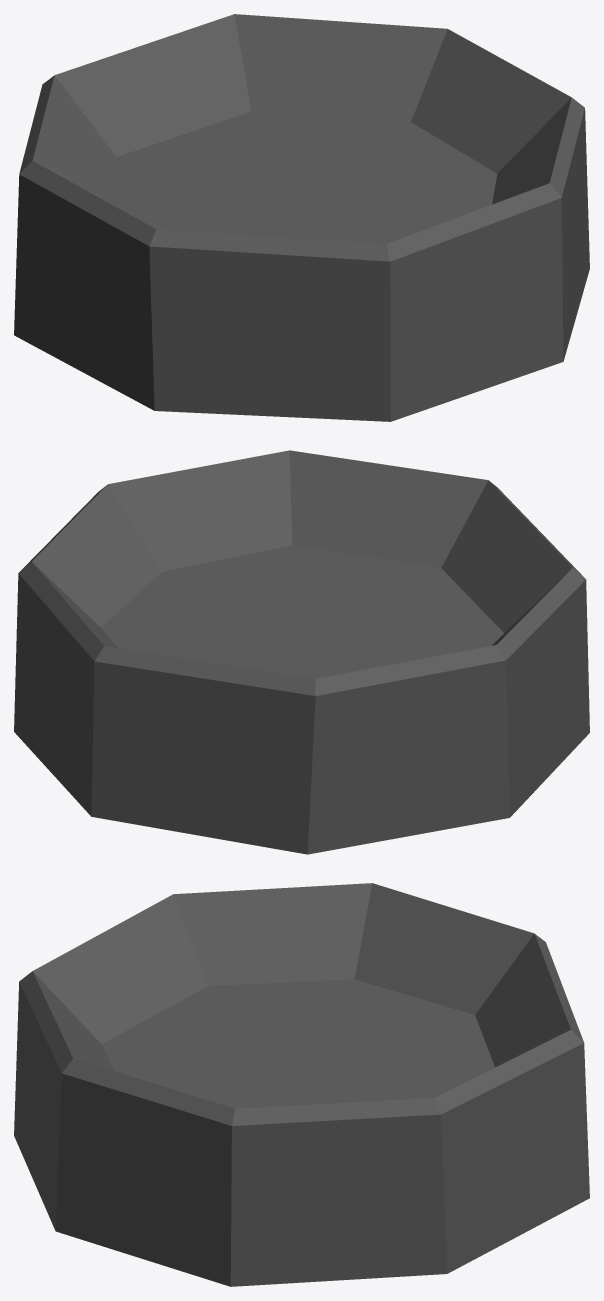
File: Office_Dish.fbx
The picture shows the model from 3 angles, top to bottom: view 1: azimuth 30°, elevation 25°; view 2: azimuth 150°, elevation 25°; view 3: azimuth 270°, elevation 25°; orthographic projection. The views are drawn at different scales.
Parts seen in each view (by area): view 1: Office_Dish; view 2: Office_Dish; view 3: Office_Dish.
Boxes of the visible parts, x1,y1,x2,y2 form: Office_Dish: (14,14,589,421); Office_Dish: (14,450,589,854); Office_Dish: (14,883,589,1286).
Bounding box in the file's own units: 26.88 × 8.89 × 27.18.
